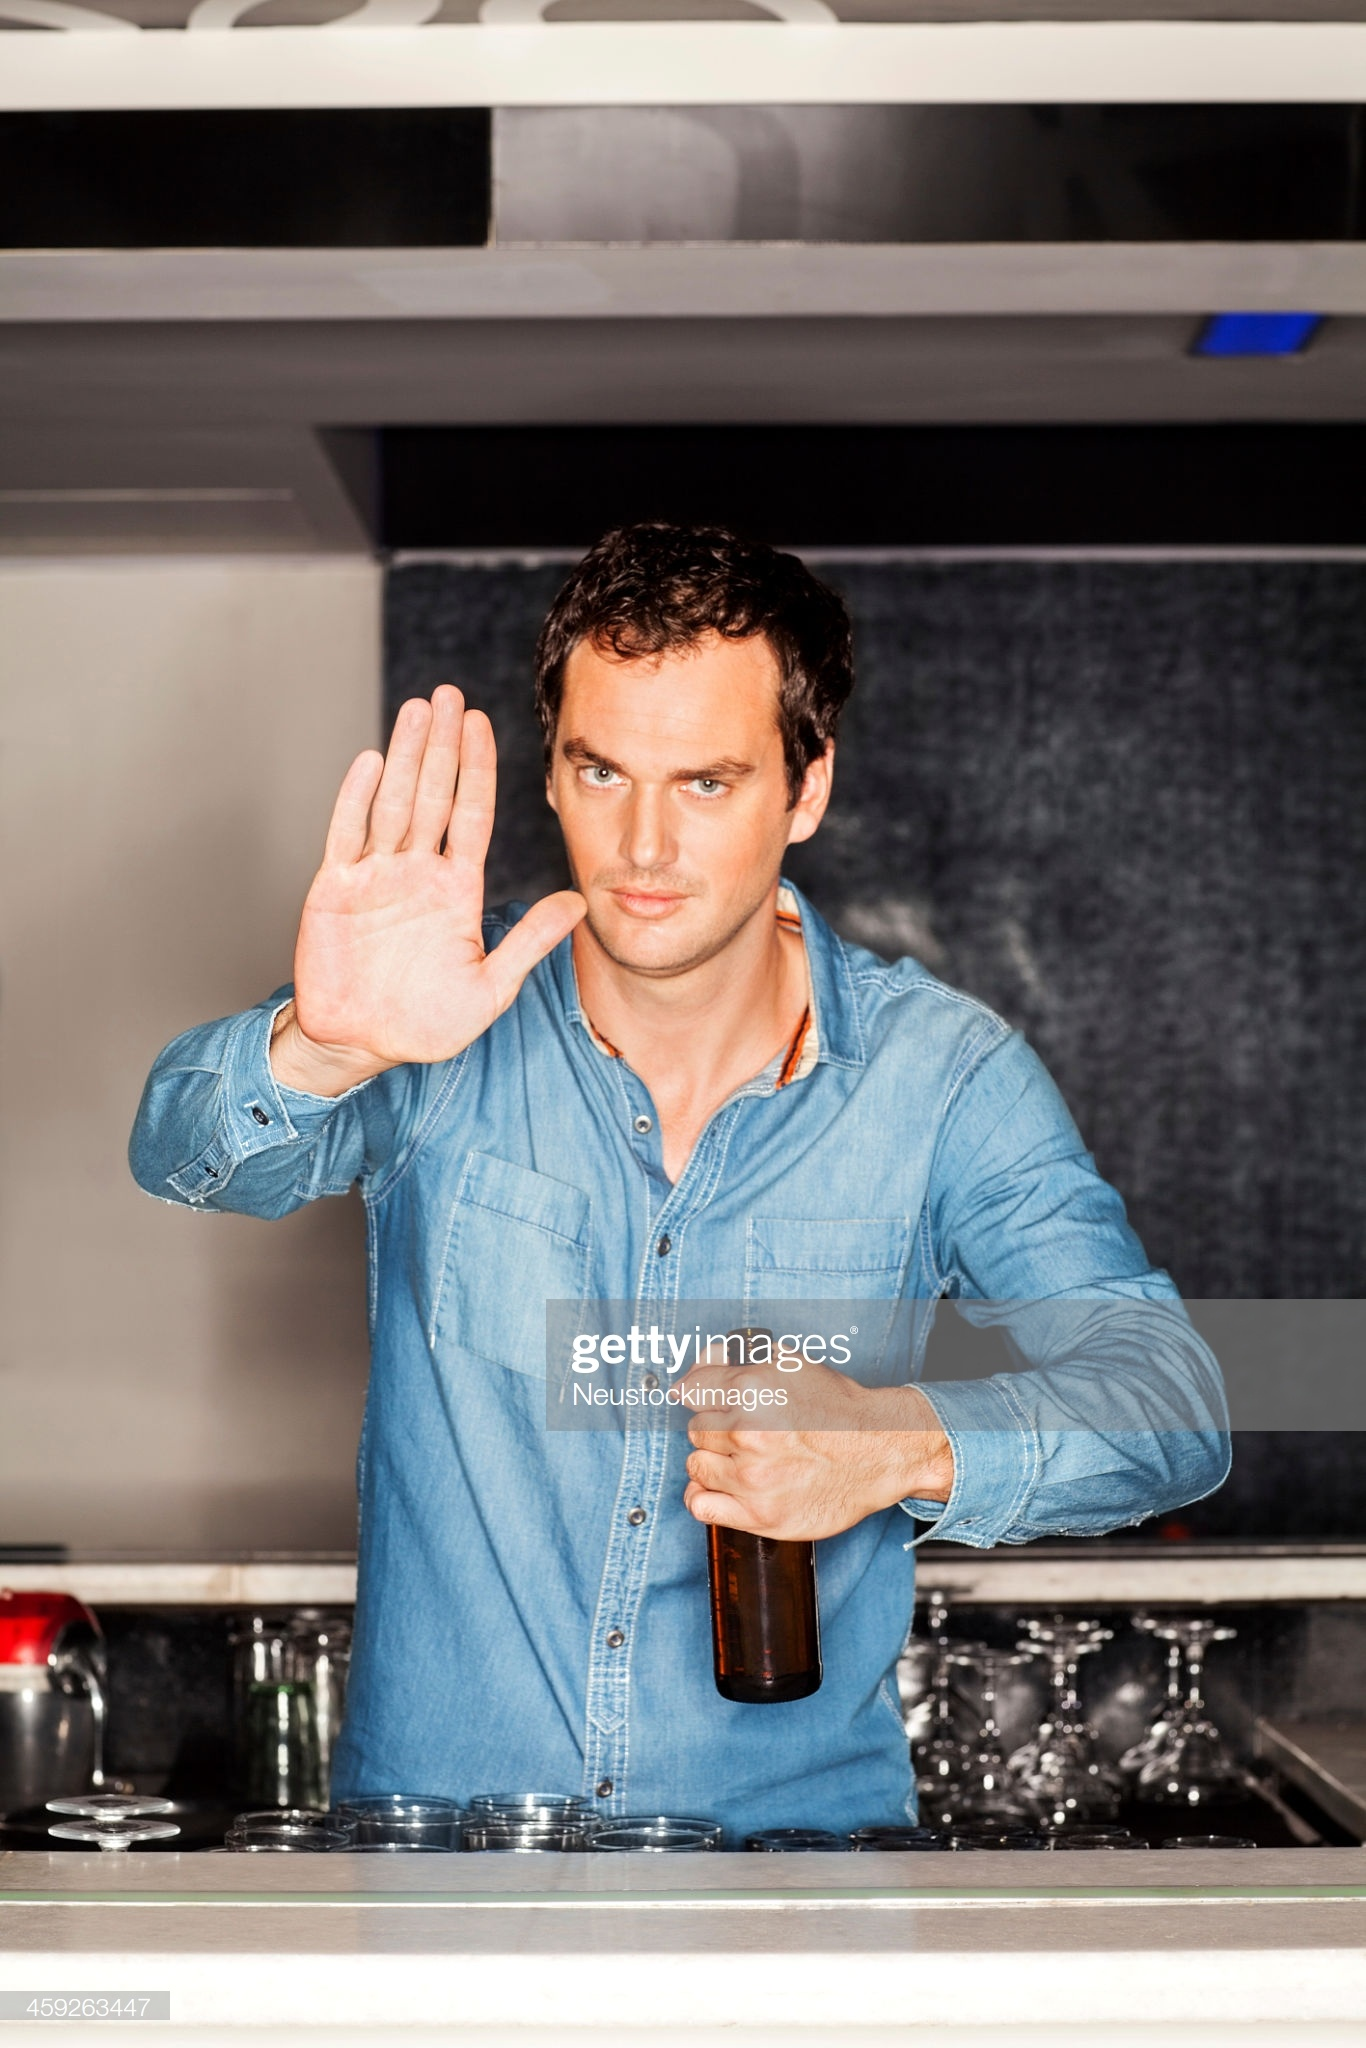beerBottle: (703, 1339, 837, 1708)
